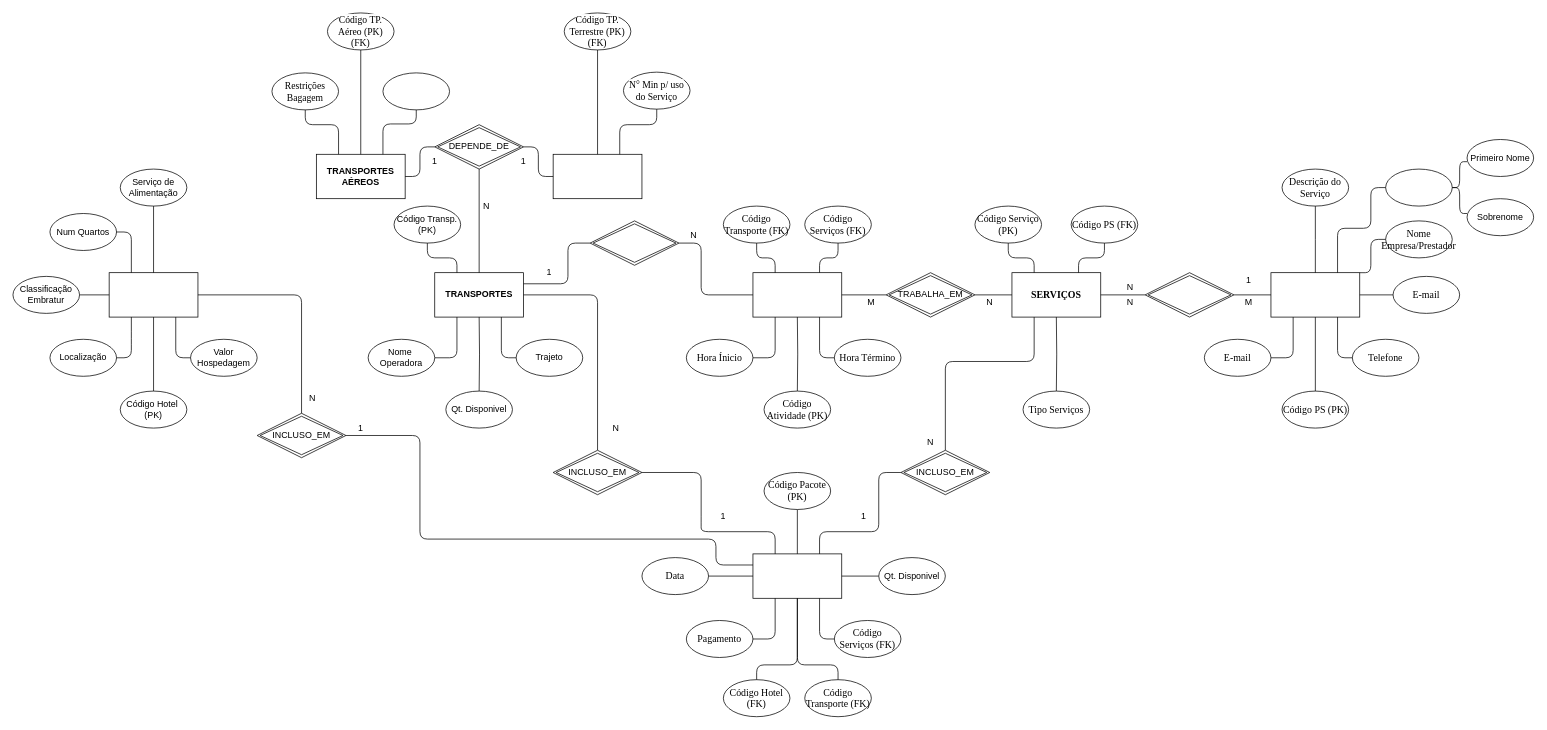
The diagram is 1547 pixels wide and 730 high, and some of its shapes have lost their labels. Here are the shapes that lost their labels. From the top down, the centre of each, then its label:
At pixel 416 91: "Taxa Adicional".
At pixel 597 176: "TRANSPORTES TERRESTRES".
At pixel 1418 187: "Nome Pessoa".
At pixel 634 242: "TRABALHA_PARA".
At pixel 153 294: "HOTEL".
At pixel 797 294: "ATIVIDADE".
At pixel 1189 294: "GERENCIA".
At pixel 1315 294: "PRESTADOR SERVIÇOS".
At pixel 797 575: "PACOTES".
